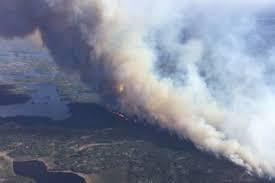yanwu: (28, 1, 273, 177)
